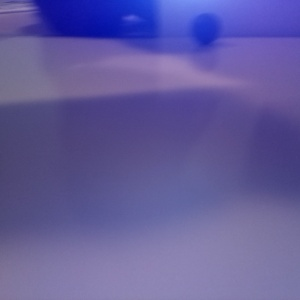alive_ball: (1, 160, 196, 300)
dead_ball: (113, 63, 276, 233), (242, 174, 300, 300), (258, 88, 300, 207)
